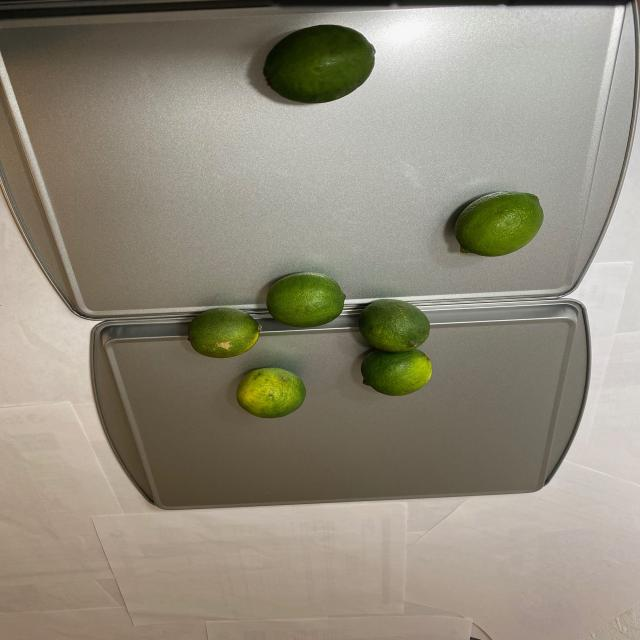lemon: (181, 272, 435, 418), (263, 23, 380, 103), (450, 190, 546, 260)
